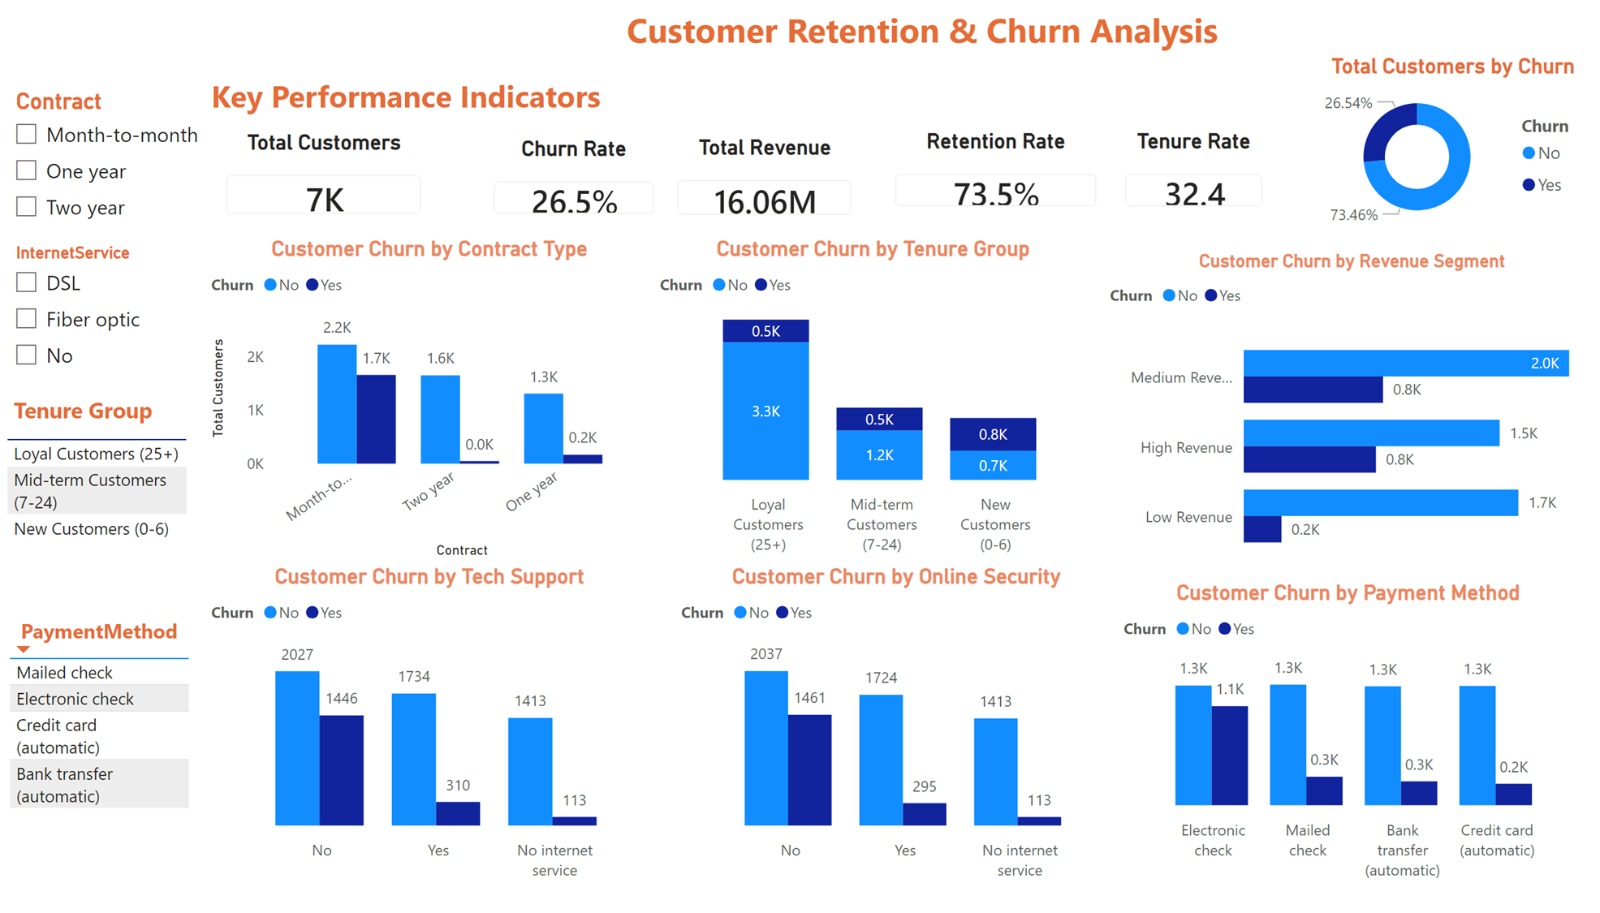

What the dashboard file says about the page in this screenshot:
{"tool":"powerbi","page":{"name":"Page 1","canvas":[1280,720],"ordinal":0},"visuals":[{"type":"shape","box":[212,0,1051.9,54.7],"z":0},{"type":"textbox","box":[212,0,1051.9,54.7],"z":1000},{"type":"cardVisual","title":"Total Customers","fields":{"Data":["WA_Fn-UseC_-Telco-Customer-Chur.Total Customers1"]},"box":[164,104.4,190.5,84.5],"z":2000},{"type":"cardVisual","title":"Churn Rate","fields":{"Data":["WA_Fn-UseC_-Telco-Customer-Chur.Churn Rate"]},"box":[377.7,109.3,162.3,79.5],"z":3000},{"type":"cardVisual","title":"Total Revenue","fields":{"Data":["WA_Fn-UseC_-Telco-Customer-Chur.Total Revenue"]},"box":[525.1,107.7,173.9,81.2],"z":4000},{"type":"cardVisual","title":"Retention Rate","fields":{"Data":["WA_Fn-UseC_-Telco-Customer-Chur.Retention Rate"]},"box":[699,102.7,195.5,79.5],"z":5000},{"type":"cardVisual","title":"Tenure Rate","fields":{"Data":["WA_Fn-UseC_-Telco-Customer-Chur.Avg Tenure"]},"box":[882.9,102.7,144.1,79.5],"z":6000},{"type":"clusteredColumnChart","title":"Customer Churn by Contract Type","fields":{"Category":["WA_Fn-UseC_-Telco-Customer-Chur.Contract"],"Y":["WA_Fn-UseC_-Telco-Customer-Chur.Total Customers1"],"Series":["WA_Fn-UseC_-Telco-Customer-Chur.Churn"]},"box":[164,188.8,359.5,246.8],"z":7000},{"type":"columnChart","title":"Customer Churn by Tenure Group","fields":{"Category":["WA_Fn-UseC_-Telco-Customer-Chur.Tenure Group"],"Y":["WA_Fn-UseC_-Telco-Customer-Chur.Total Customers1"],"Series":["WA_Fn-UseC_-Telco-Customer-Chur.Churn"]},"box":[540,188.8,354.5,246.8],"z":8000},{"type":"clusteredBarChart","title":"Customer Churn by Revenue Segment","fields":{"Category":["WA_Fn-UseC_-Telco-Customer-Chur.Monthly Revenue Segment"],"Y":["WA_Fn-UseC_-Telco-Customer-Chur.Total Customers1"],"Series":["WA_Fn-UseC_-Telco-Customer-Chur.Churn"]},"box":[911.1,188.8,352.8,246.8],"z":9000},{"type":"clusteredColumnChart","title":"Customer Churn by Tech Support","fields":{"Category":["WA_Fn-UseC_-Telco-Customer-Chur.TechSupport"],"Series":["WA_Fn-UseC_-Telco-Customer-Chur.Churn"],"Y":["WA_Fn-UseC_-Telco-Customer-Chur.Total Customers1"]},"box":[164,450.6,359.5,260.1],"z":10000},{"type":"clusteredBarChart","title":"Customer Churn by Online Security","fields":{"Category":["WA_Fn-UseC_-Telco-Customer-Chur.OnlineSecurity"],"Series":["WA_Fn-UseC_-Telco-Customer-Chur.Churn"],"Y":["WA_Fn-UseC_-Telco-Customer-Chur.Total Customers"]},"box":[540,450.6,354.5,260.1],"z":11000},{"type":"clusteredColumnChart","title":"Customer Churn by Payment Method","fields":{"Category":["WA_Fn-UseC_-Telco-Customer-Chur.PaymentMethod"],"Series":["WA_Fn-UseC_-Telco-Customer-Chur.Churn"],"Y":["WA_Fn-UseC_-Telco-Customer-Chur.Total Customers1"]},"box":[911.1,450.6,352.8,260.1],"z":12000},{"type":"slicer","fields":{"Values":["WA_Fn-UseC_-Telco-Customer-Chur.Contract"]},"box":[0,64.6,150.7,137.5],"z":13000},{"type":"slicer","fields":{"Values":["WA_Fn-UseC_-Telco-Customer-Chur.InternetService"]},"box":[0,218.7,150.7,127.5],"z":14000},{"type":"tableEx","fields":{"Values":["WA_Fn-UseC_-Telco-Customer-Chur.PaymentMethod"]},"box":[1.7,533.4,149.1,187.2],"z":15000},{"type":"tableEx","fields":{"Values":["WA_Fn-UseC_-Telco-Customer-Chur.Tenure Group"]},"box":[0,359.5,150.7,160.7],"z":16000},{"type":"textbox","box":[164,54.7,1099.9,48],"z":17000},{"type":"donutChart","fields":{"Y":["WA_Fn-UseC_-Telco-Customer-Chur.Total Customers1"],"Category":["WA_Fn-UseC_-Telco-Customer-Chur.Churn"]},"box":[1027,64.6,236.9,117.6],"z":18000}]}

Visuals, with their boxes in screenshot pixels (x1, y1, x2, y2), scaled from the page's 1280x720 canvas onto the 1600x913 screenshot:
shape: bbox(265, 0, 1580, 69)
textbox: bbox(265, 0, 1580, 69)
"Total Customers" cardVisual: bbox(205, 132, 443, 240)
"Churn Rate" cardVisual: bbox(472, 139, 675, 239)
"Total Revenue" cardVisual: bbox(656, 137, 874, 240)
"Retention Rate" cardVisual: bbox(874, 130, 1118, 231)
"Tenure Rate" cardVisual: bbox(1104, 130, 1284, 231)
"Customer Churn by Contract Type" clusteredColumnChart: bbox(205, 239, 654, 552)
"Customer Churn by Tenure Group" columnChart: bbox(675, 239, 1118, 552)
"Customer Churn by Revenue Segment" clusteredBarChart: bbox(1139, 239, 1580, 552)
"Customer Churn by Tech Support" clusteredColumnChart: bbox(205, 571, 654, 901)
"Customer Churn by Online Security" clusteredBarChart: bbox(675, 571, 1118, 901)
"Customer Churn by Payment Method" clusteredColumnChart: bbox(1139, 571, 1580, 901)
slicer - WA_Fn-UseC_-Telco-Customer-Chur.Contract: bbox(0, 82, 188, 256)
slicer - WA_Fn-UseC_-Telco-Customer-Chur.InternetService: bbox(0, 277, 188, 439)
tableEx - WA_Fn-UseC_-Telco-Customer-Chur.PaymentMethod: bbox(2, 676, 188, 912)
tableEx - WA_Fn-UseC_-Telco-Customer-Chur.Tenure Group: bbox(0, 456, 188, 660)
textbox: bbox(205, 69, 1580, 130)
donutChart - WA_Fn-UseC_-Telco-Customer-Chur.Total Customers1 x WA_Fn-UseC_-Telco-Customer-Chur.Churn: bbox(1284, 82, 1580, 231)
